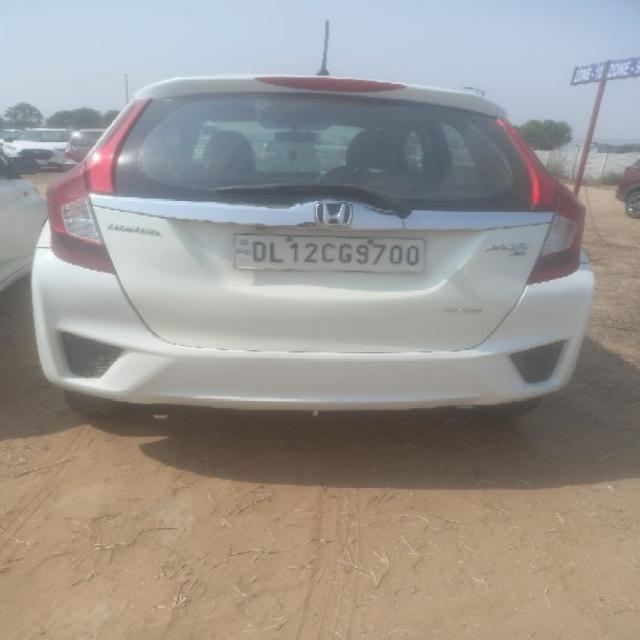license_plate: (231, 231, 427, 274)
